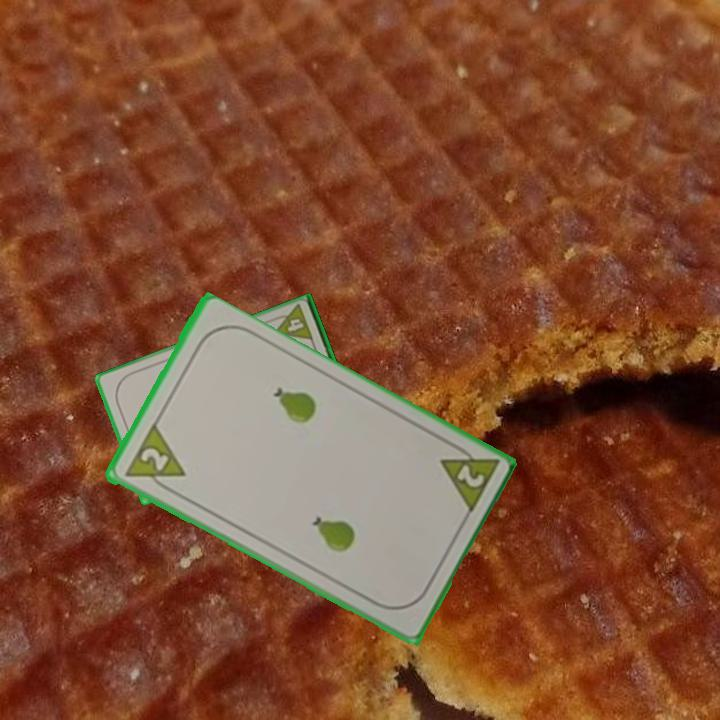2p: (435, 437, 501, 518), (120, 422, 188, 498)
4p: (267, 302, 316, 345)
